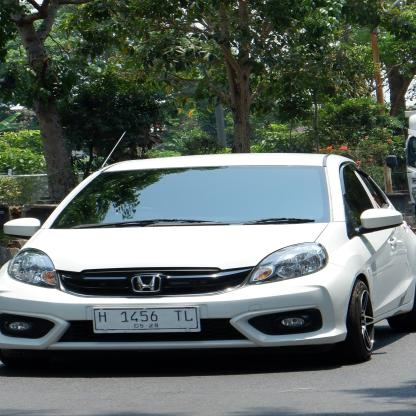Plat-Nomor: (90, 305, 208, 336)
